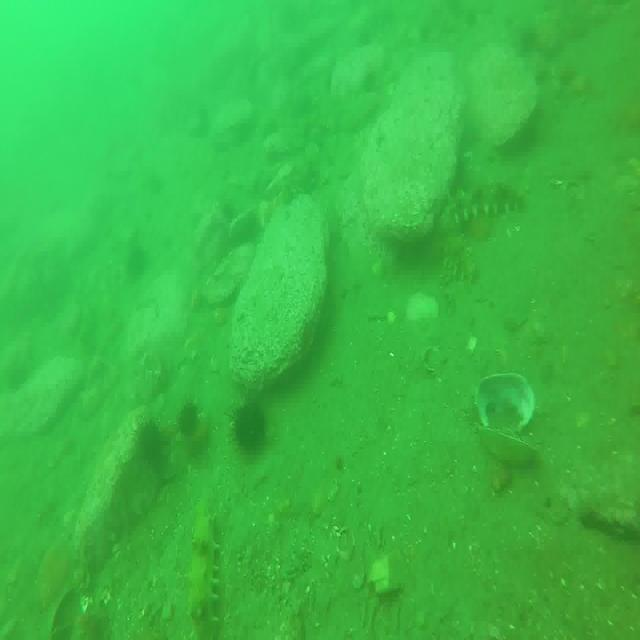echinus: (236, 398, 268, 456), (134, 422, 168, 469), (125, 242, 150, 281), (176, 400, 200, 436)
holothurian: (439, 180, 520, 281), (186, 484, 220, 640)
scallop: (474, 370, 543, 471)
